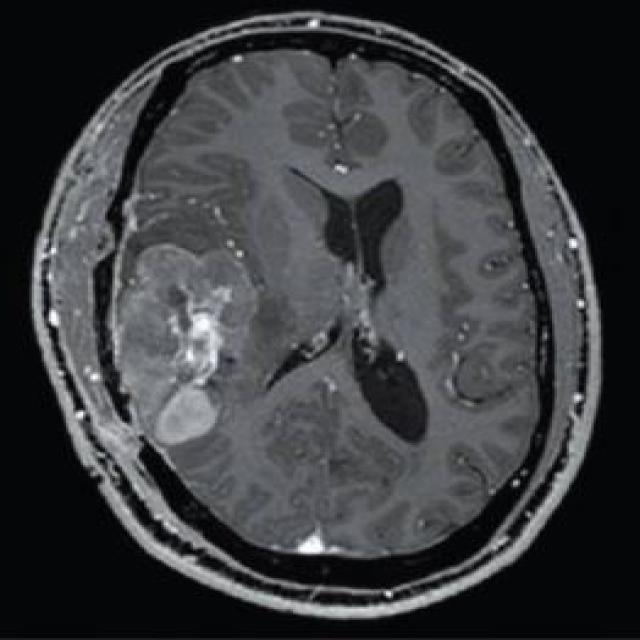tumor: (110, 240, 253, 440)
